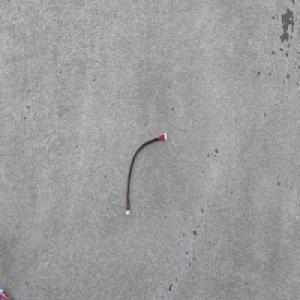Wire: (124, 130, 168, 216)
